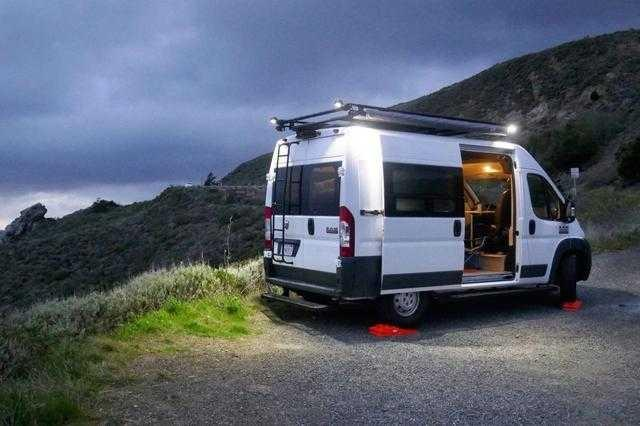car: (251, 122, 617, 327)
